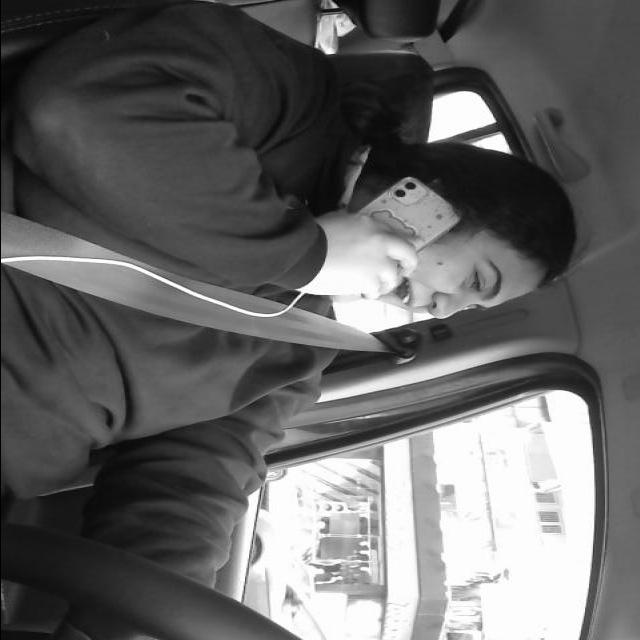mobile use: (314, 168, 459, 283)
